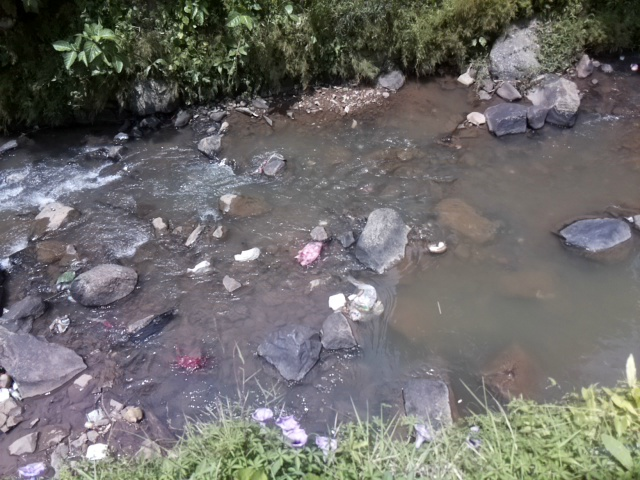Sampah_Plastik: (349, 278, 377, 321), (294, 240, 322, 268), (177, 351, 209, 372)
Sampah_Styrofoam: (84, 444, 110, 461), (327, 293, 347, 312), (232, 248, 260, 261)
